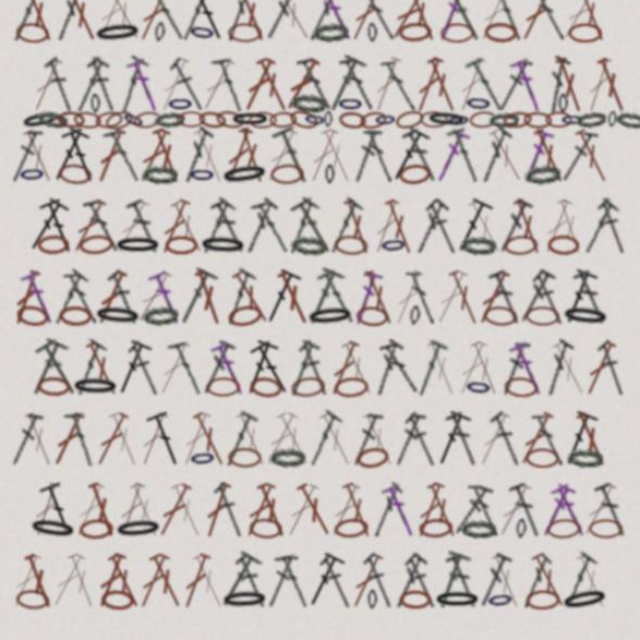chain: (514, 581, 561, 607), (202, 192, 249, 216), (26, 517, 73, 541), (86, 63, 132, 85), (281, 323, 327, 345), (515, 323, 561, 345), (105, 518, 151, 540), (86, 323, 132, 344), (183, 259, 228, 279), (203, 584, 248, 604), (19, 143, 58, 165), (66, 389, 111, 408), (105, 260, 150, 278), (398, 585, 443, 603), (481, 193, 516, 215), (209, 322, 242, 345), (15, 322, 47, 345), (327, 452, 359, 475), (267, 388, 300, 410), (287, 63, 321, 84), (131, 323, 165, 344), (229, 388, 261, 410), (267, 259, 301, 279), (54, 193, 86, 214), (73, 258, 105, 279), (307, 518, 339, 539), (366, 193, 397, 214), (267, 129, 301, 148), (307, 259, 339, 279), (463, 259, 495, 279), (444, 324, 476, 344), (307, 389, 339, 409), (463, 389, 495, 409), (73, 519, 105, 539), (502, 519, 534, 539), (15, 584, 47, 604), (96, 143, 125, 165), (392, 145, 429, 162), (248, 454, 281, 473), (15, 64, 46, 84), (327, 324, 358, 344), (93, 584, 124, 604), (265, 143, 294, 164), (362, 143, 391, 164), (131, 195, 164, 213), (423, 260, 456, 278), (521, 455, 554, 473), (423, 520, 456, 538), (366, 64, 397, 83), (249, 194, 280, 213), (210, 454, 241, 473), (229, 519, 260, 538), (385, 519, 416, 538), (445, 64, 475, 83), (34, 144, 64, 163), (528, 144, 558, 163), (35, 259, 65, 278), (503, 259, 533, 278), (55, 324, 85, 343), (35, 389, 65, 408), (173, 63, 200, 84), (210, 65, 241, 83), (405, 65, 436, 83), (522, 65, 553, 83), (483, 325, 514, 343), (190, 390, 221, 408), (483, 455, 514, 473), (541, 520, 572, 538), (483, 585, 514, 603), (212, 146, 249, 161), (111, 143, 136, 165), (330, 144, 357, 164), (152, 260, 182, 278), (367, 585, 397, 603), (198, 144, 226, 163), (565, 145, 594, 163), (427, 389, 453, 409), (174, 454, 200, 474), (447, 584, 473, 604), (427, 129, 453, 148), (349, 259, 375, 278), (142, 145, 171, 162), (182, 145, 209, 163), (462, 145, 489, 163), (18, 194, 43, 213), (68, 145, 94, 163), (88, 145, 114, 163), (123, 145, 149, 163), (311, 145, 337, 163), (154, 130, 179, 148), (310, 130, 335, 148), (174, 195, 199, 213), (449, 146, 477, 162), (53, 145, 79, 162), (431, 145, 457, 162), (229, 146, 255, 162), (481, 146, 507, 162), (248, 146, 273, 162), (163, 146, 189, 161), (386, 146, 412, 161), (501, 146, 526, 161), (279, 145, 301, 162), (411, 146, 433, 162), (344, 146, 365, 161), (515, 146, 536, 161), (142, 64, 153, 83), (376, 324, 387, 343), (474, 520, 484, 538), (338, 65, 347, 83), (84, 130, 93, 148), (513, 130, 522, 148), (299, 195, 308, 213), (338, 585, 347, 603), (558, 146, 567, 161), (298, 146, 306, 161)
double: (267, 224, 312, 280), (33, 354, 78, 410), (197, 549, 242, 605), (21, 224, 66, 279), (405, 29, 449, 85), (229, 354, 273, 410), (354, 159, 397, 215), (159, 289, 202, 345), (296, 94, 338, 150), (43, 159, 85, 215), (413, 224, 455, 280), (23, 354, 65, 410), (277, 549, 319, 605), (172, 29, 213, 85), (250, 159, 291, 215), (238, 289, 279, 345), (277, 289, 318, 345), (102, 354, 142, 410), (395, 419, 435, 475), (121, 290, 163, 343), (133, 30, 174, 84), (250, 30, 291, 84), (230, 225, 271, 279), (530, 225, 571, 279), (63, 94, 103, 149), (290, 289, 330, 344), (56, 159, 95, 215), (36, 224, 75, 280), (512, 289, 551, 345), (134, 419, 173, 475), (512, 419, 551, 475), (36, 484, 75, 540), (355, 30, 396, 83), (211, 290, 252, 343), (95, 30, 135, 84), (426, 95, 466, 149), (153, 225, 193, 279), (426, 225, 466, 279), (44, 290, 84, 344), (5, 29, 44, 84), (161, 29, 200, 84), (95, 159, 134, 214), (180, 224, 219, 279), (297, 224, 336, 279), (200, 419, 239, 474), (278, 419, 317, 474), (512, 549, 551, 604), (220, 354, 258, 410), (396, 549, 434, 605), (512, 30, 552, 83), (258, 95, 298, 148), (504, 355, 543, 409), (239, 420, 278, 474), (290, 420, 329, 474), (141, 485, 180, 539), (258, 485, 297, 539), (453, 485, 492, 539), (134, 550, 173, 604), (446, 160, 485, 213), (63, 225, 102, 278), (473, 290, 512, 343), (251, 420, 290, 473), (473, 420, 512, 473), (270, 485, 309, 538), (531, 485, 570, 538), (44, 550, 83, 603), (485, 550, 524, 603), (57, 30, 95, 84), (123, 30, 161, 84), (240, 30, 278, 84), (291, 30, 329, 84), (474, 30, 512, 84), (181, 95, 219, 149), (232, 95, 270, 149), (123, 160, 161, 214), (240, 160, 278, 214), (369, 160, 407, 214), (525, 160, 563, 214), (103, 225, 141, 279), (193, 225, 231, 279), (396, 290, 434, 344), (76, 355, 114, 409), (310, 355, 348, 409), (84, 420, 122, 474), (174, 420, 212, 474), (435, 420, 473, 474), (505, 485, 543, 539), (96, 550, 134, 604), (318, 550, 356, 604), (414, 486, 454, 537), (259, 224, 296, 279), (64, 354, 101, 409), (154, 354, 191, 409), (259, 354, 296, 409), (376, 354, 413, 409), (252, 549, 289, 604), (318, 30, 355, 84), (220, 95, 257, 149), (18, 160, 55, 214), (291, 160, 328, 214), (396, 160, 433, 214), (454, 225, 491, 279), (252, 290, 289, 344), (435, 290, 472, 344), (142, 355, 179, 409), (193, 355, 230, 409), (45, 420, 82, 474), (330, 420, 367, 474), (154, 485, 191, 539), (493, 485, 530, 539), (123, 550, 160, 604), (174, 550, 211, 604), (448, 29, 484, 84), (202, 289, 238, 344), (376, 226, 414, 278), (349, 356, 387, 408), (220, 225, 257, 278), (19, 30, 55, 84), (85, 30, 121, 84), (436, 30, 472, 84), (26, 95, 62, 149), (143, 95, 179, 149), (175, 160, 211, 214), (487, 160, 523, 214), (116, 225, 152, 279), (143, 225, 179, 279), (19, 290, 55, 344), (85, 290, 121, 344), (331, 290, 367, 344), (409, 290, 445, 344), (448, 290, 484, 344), (526, 290, 562, 344), (182, 355, 218, 409), (416, 355, 452, 409), (467, 355, 503, 409), (533, 355, 569, 409), (19, 420, 55, 474), (97, 420, 133, 474), (214, 420, 250, 474), (526, 420, 562, 474), (65, 485, 101, 539), (116, 485, 152, 539), (221, 485, 257, 539), (299, 485, 335, 539), (311, 485, 347, 539), (350, 485, 386, 539), (389, 485, 425, 539), (545, 485, 581, 539), (7, 550, 43, 604), (436, 550, 472, 604), (526, 550, 562, 604), (154, 96, 192, 147), (194, 94, 229, 149), (409, 159, 444, 214), (85, 549, 120, 604), (513, 161, 550, 213), (357, 551, 394, 603), (46, 30, 82, 83), (436, 160, 472, 213), (370, 30, 405, 84), (526, 30, 561, 84), (116, 95, 151, 149), (389, 95, 424, 149), (545, 95, 580, 149), (85, 160, 120, 214), (280, 160, 315, 214), (350, 225, 385, 279), (136, 290, 171, 344), (358, 290, 393, 344), (299, 355, 334, 409), (389, 355, 424, 409), (163, 420, 198, 474), (409, 420, 444, 474), (233, 485, 268, 539), (467, 485, 502, 539), (409, 550, 444, 604), (448, 550, 483, 604), (105, 94, 139, 149), (339, 94, 373, 149), (78, 484, 112, 539), (163, 160, 198, 213), (77, 225, 112, 278), (215, 30, 249, 84), (398, 30, 432, 84), (468, 95, 502, 149), (137, 160, 171, 214), (476, 160, 510, 214), (468, 225, 502, 279), (495, 225, 529, 279), (429, 355, 463, 409), (125, 420, 159, 474), (378, 485, 412, 539), (20, 550, 54, 604), (59, 550, 93, 604), (280, 31, 315, 83), (331, 31, 366, 83), (350, 96, 385, 148), (455, 96, 490, 148), (389, 226, 424, 278), (487, 291, 522, 343), (116, 356, 151, 408), (370, 421, 405, 473), (292, 551, 327, 603), (370, 551, 405, 603), (59, 419, 92, 474), (27, 484, 60, 539), (105, 484, 138, 539), (273, 95, 307, 148), (312, 95, 346, 148), (215, 550, 249, 603), (378, 95, 411, 149), (417, 95, 450, 149), (507, 95, 540, 149), (203, 160, 236, 214), (339, 225, 372, 279), (176, 290, 209, 344), (164, 550, 197, 604), (488, 31, 522, 83), (59, 291, 93, 343), (216, 159, 248, 214), (8, 160, 41, 213), (98, 290, 131, 343), (273, 355, 306, 408), (339, 355, 372, 408), (8, 420, 41, 473), (449, 420, 482, 473), (195, 485, 228, 538), (332, 550, 365, 603), (313, 225, 345, 279), (508, 225, 540, 279), (9, 290, 41, 344), (321, 290, 353, 344), (184, 485, 216, 539), (488, 421, 521, 473), (339, 486, 372, 538), (476, 551, 509, 603), (40, 95, 72, 148), (79, 95, 111, 148), (547, 225, 579, 278), (496, 355, 528, 408), (321, 420, 353, 473), (360, 420, 392, 473), (243, 550, 275, 603), (535, 95, 566, 149), (547, 355, 578, 408), (430, 485, 461, 538), (205, 30, 235, 83), (322, 160, 352, 213), (334, 160, 364, 213), (373, 290, 403, 343), (458, 355, 488, 408), (498, 95, 525, 149)
noise: (611, 373, 625, 387)
